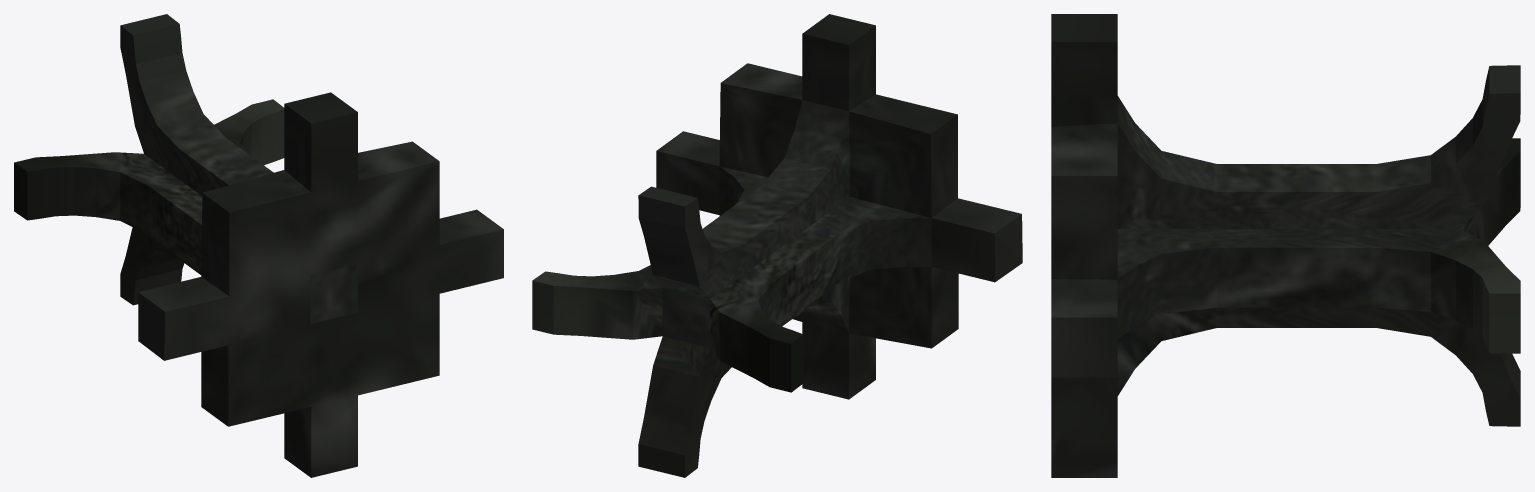
The model's file is pedestal2.obj.
3 views of the same model, side by side, from view 1: azimuth 30°, elevation 25°; view 2: azimuth 150°, elevation 25°; view 3: azimuth 270°, elevation 25° (orthographic). The views are drawn at different scales.
Parts seen in each view (by area): view 1: Plane; view 2: Plane; view 3: Plane.
Part boxes in pixels (bbox=[...]): Plane: bbox=[14, 14, 503, 477]; Plane: bbox=[532, 14, 1022, 477]; Plane: bbox=[1051, 14, 1520, 477].
Size of the model in its own units: 0.9103 by 0.9081 by 0.8861.
